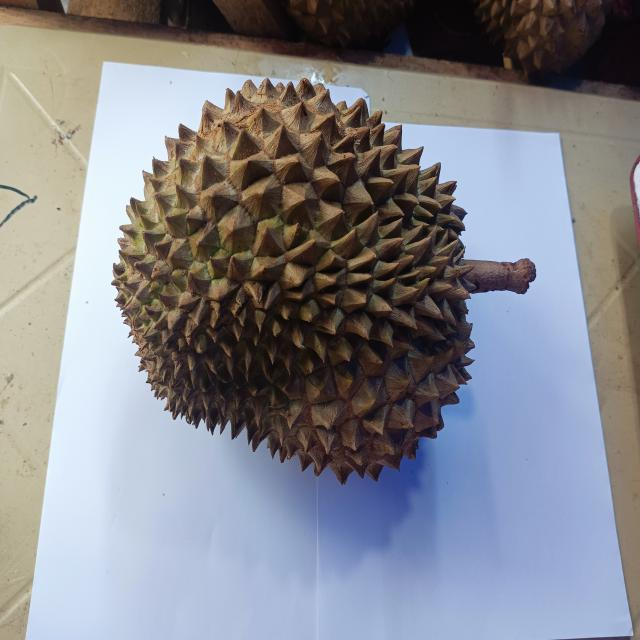mature: (112, 79, 535, 483)
